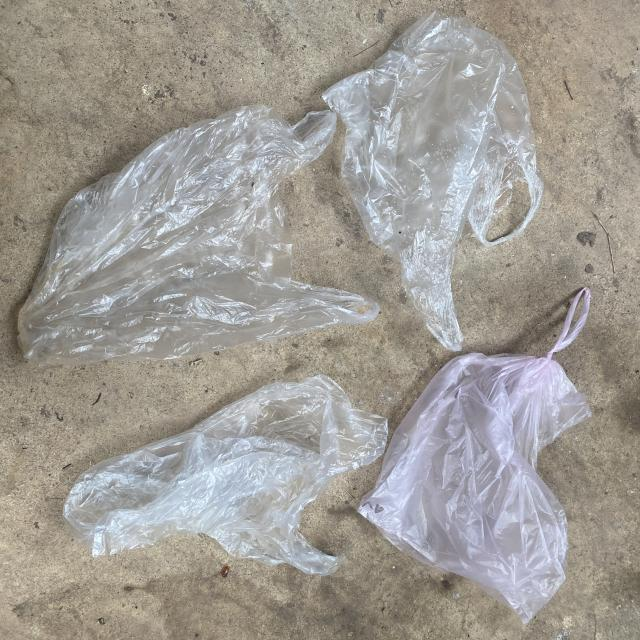Single-layer Plastic: (19, 105, 379, 365), (359, 288, 591, 622), (322, 12, 542, 351), (64, 375, 388, 575)
